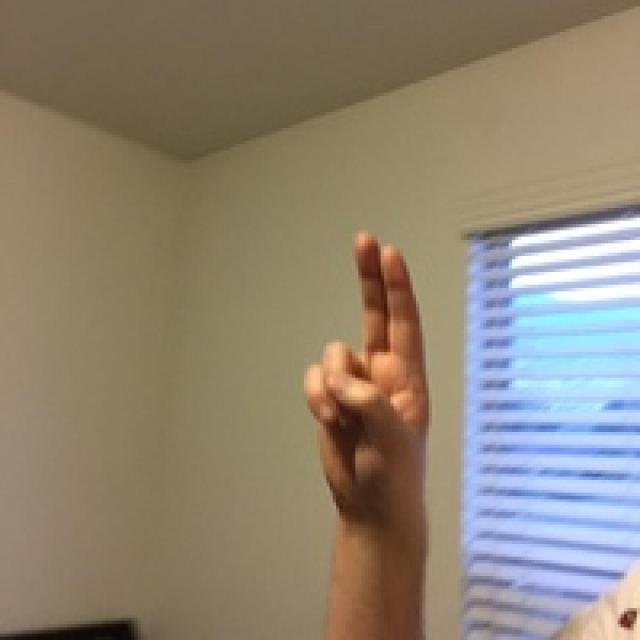U: (300, 212, 493, 566)
